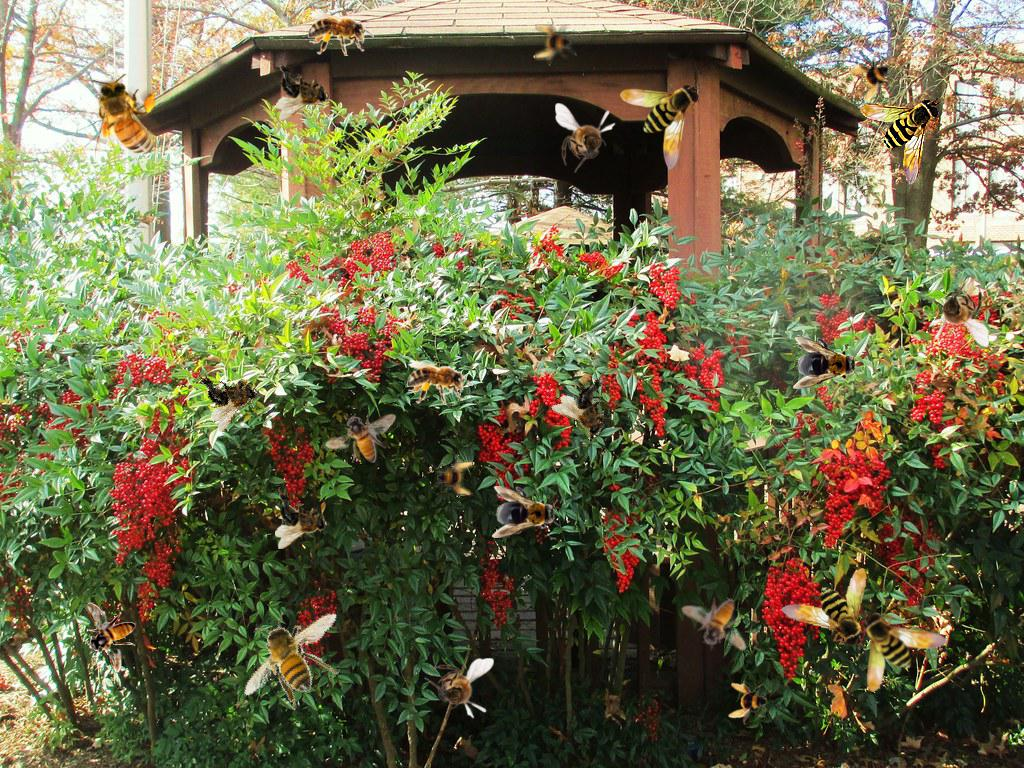Bee: (229, 586, 360, 726), (777, 558, 875, 652), (860, 610, 948, 692), (860, 97, 942, 185), (620, 82, 702, 170), (679, 581, 761, 668), (549, 370, 630, 450), (91, 74, 159, 167), (194, 356, 267, 434), (555, 103, 616, 173), (928, 277, 989, 347), (424, 658, 494, 719), (844, 47, 906, 109), (86, 602, 136, 673), (325, 413, 396, 463), (492, 486, 560, 538), (793, 337, 861, 389), (276, 59, 329, 121), (275, 487, 328, 549), (308, 11, 374, 56), (407, 360, 473, 405), (533, 22, 577, 66), (728, 681, 772, 725), (431, 454, 475, 498)
